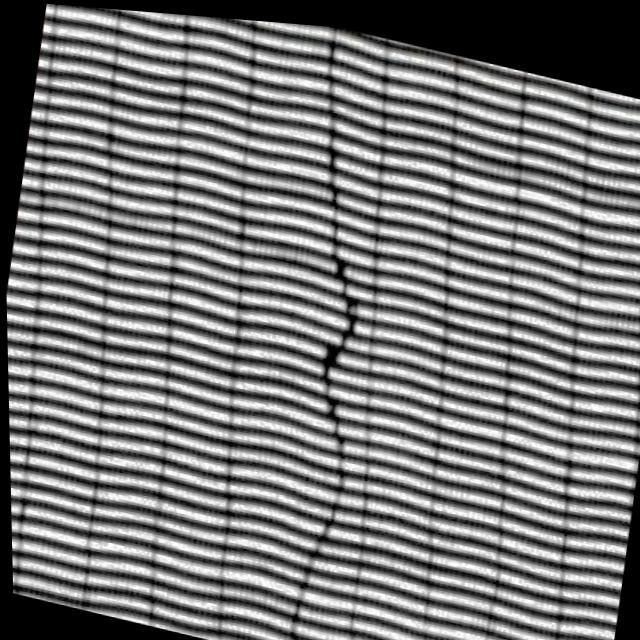Stitch: (246, 138, 426, 475)
